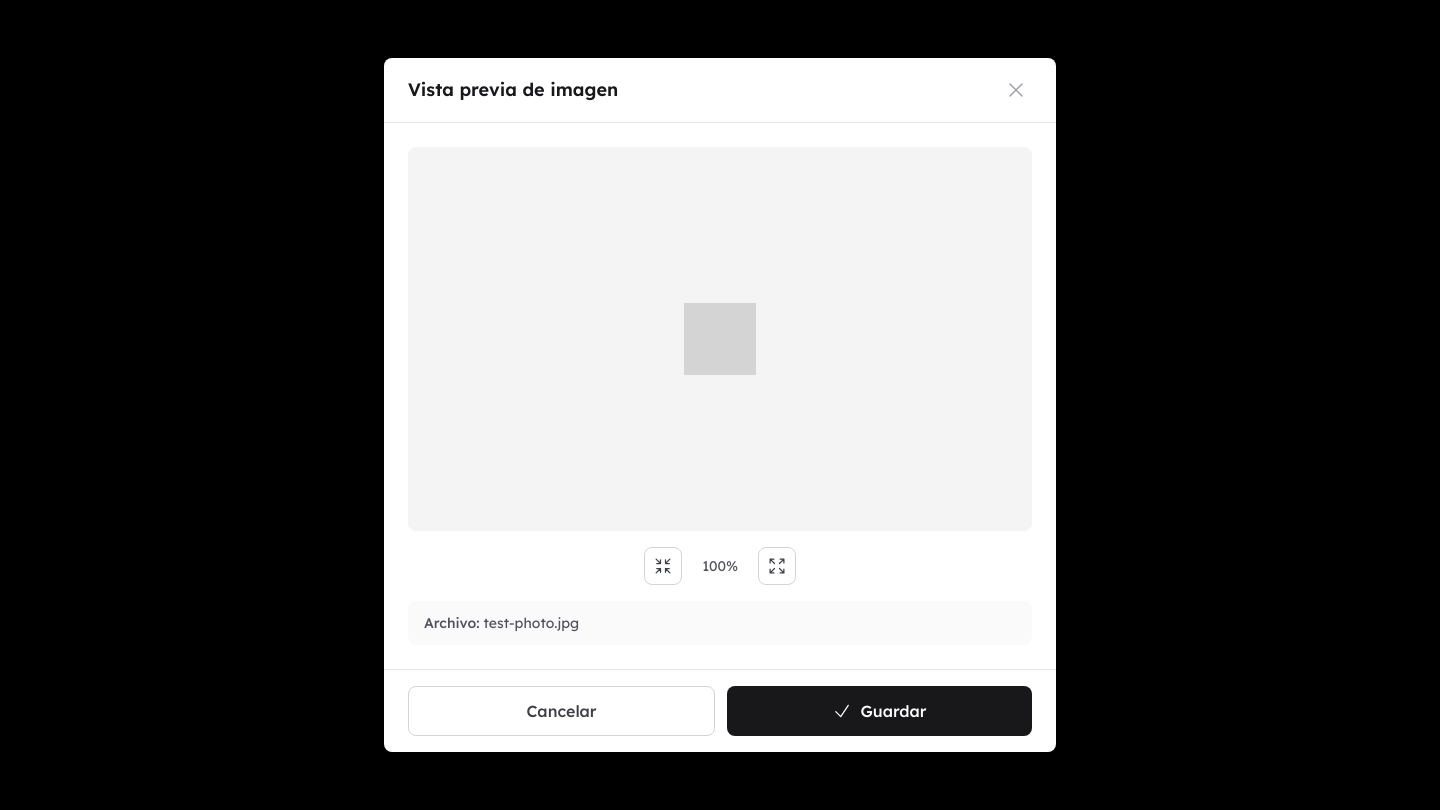
Scenario: ImagePreview › resets zoom when reset button is clicked
Click the button named "acercar".
click(777, 566)  # box [758,547,796,585]
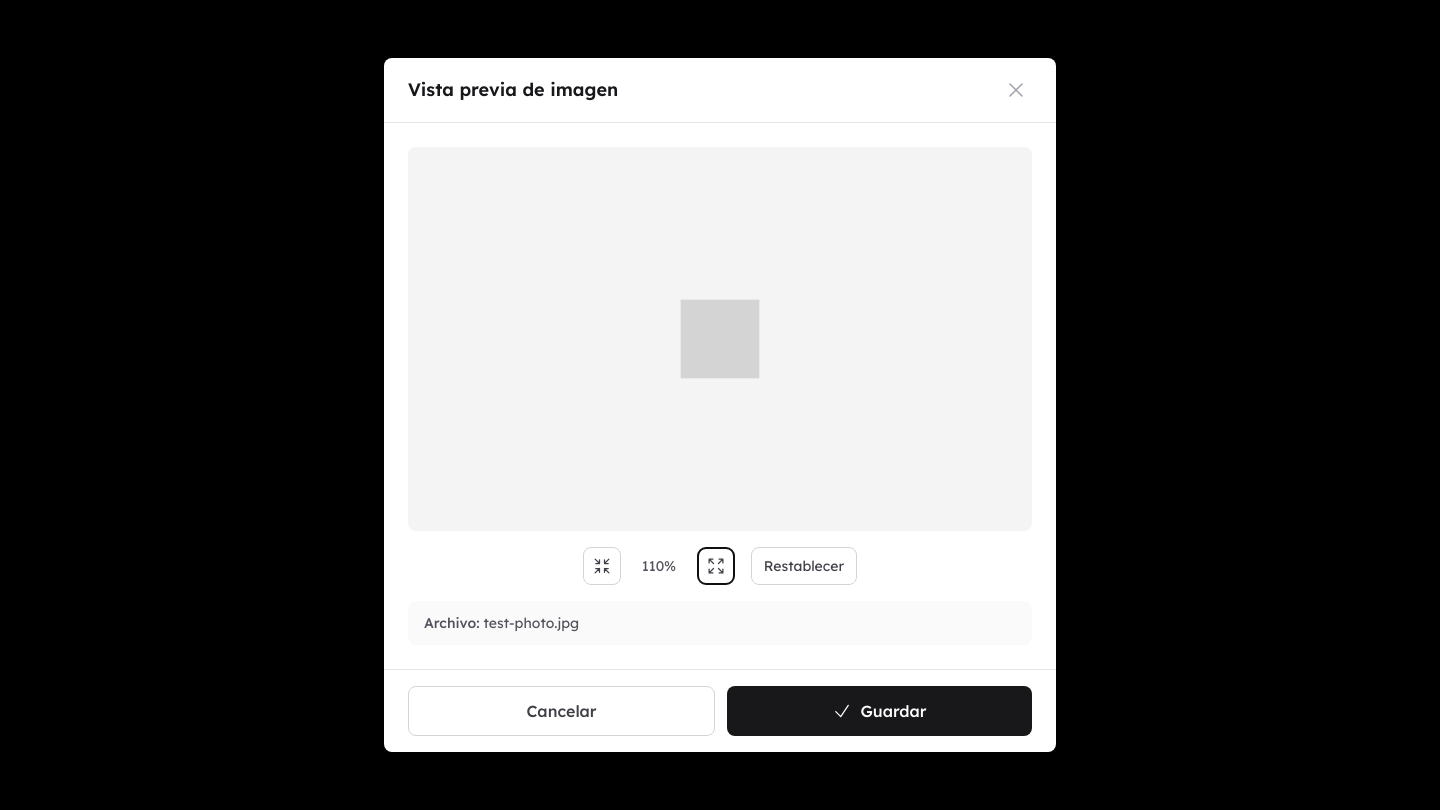
Click the button named "acercar".
click(716, 566)  # box [697,547,735,585]
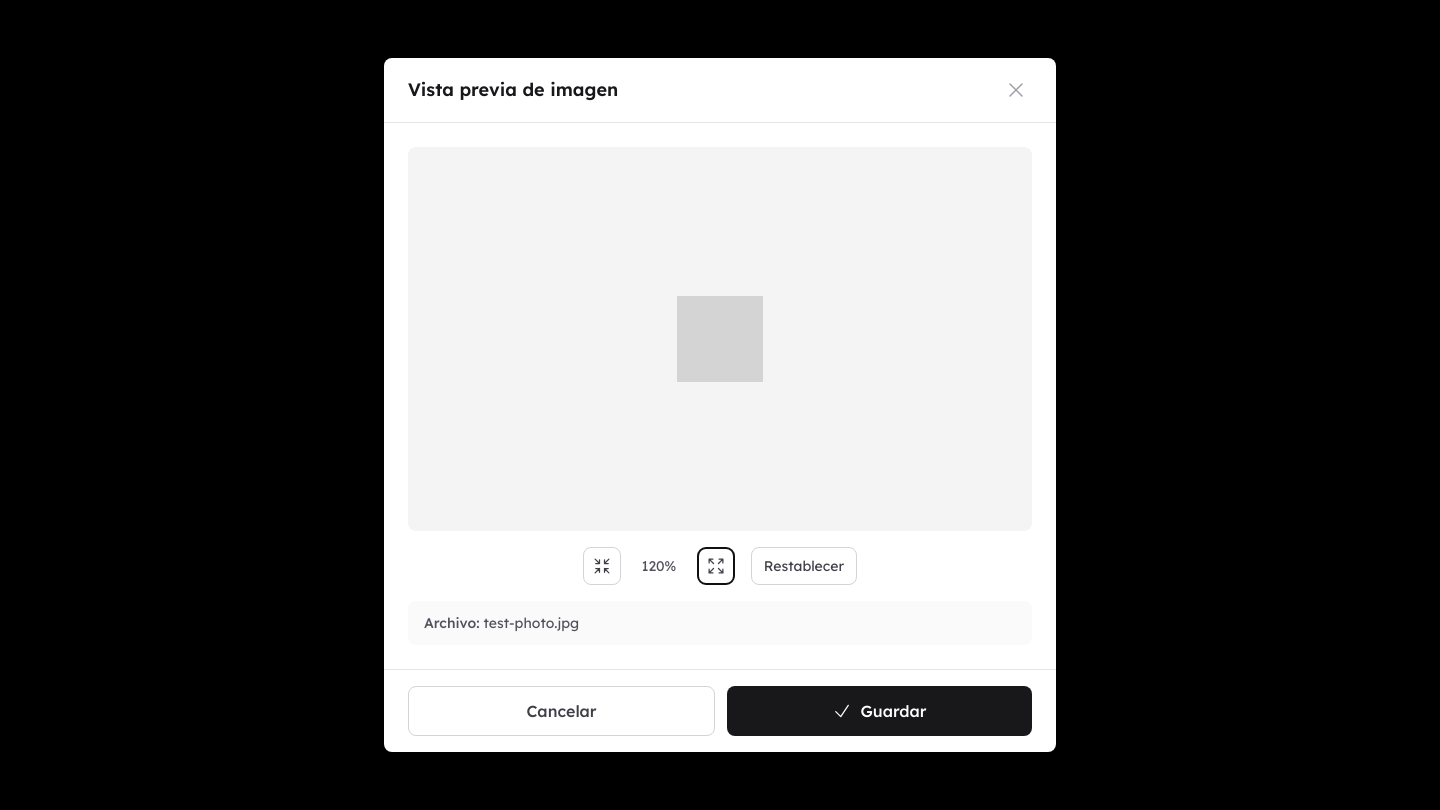
Click the button "Restablecer".
click(804, 566)  # box [751,547,857,585]
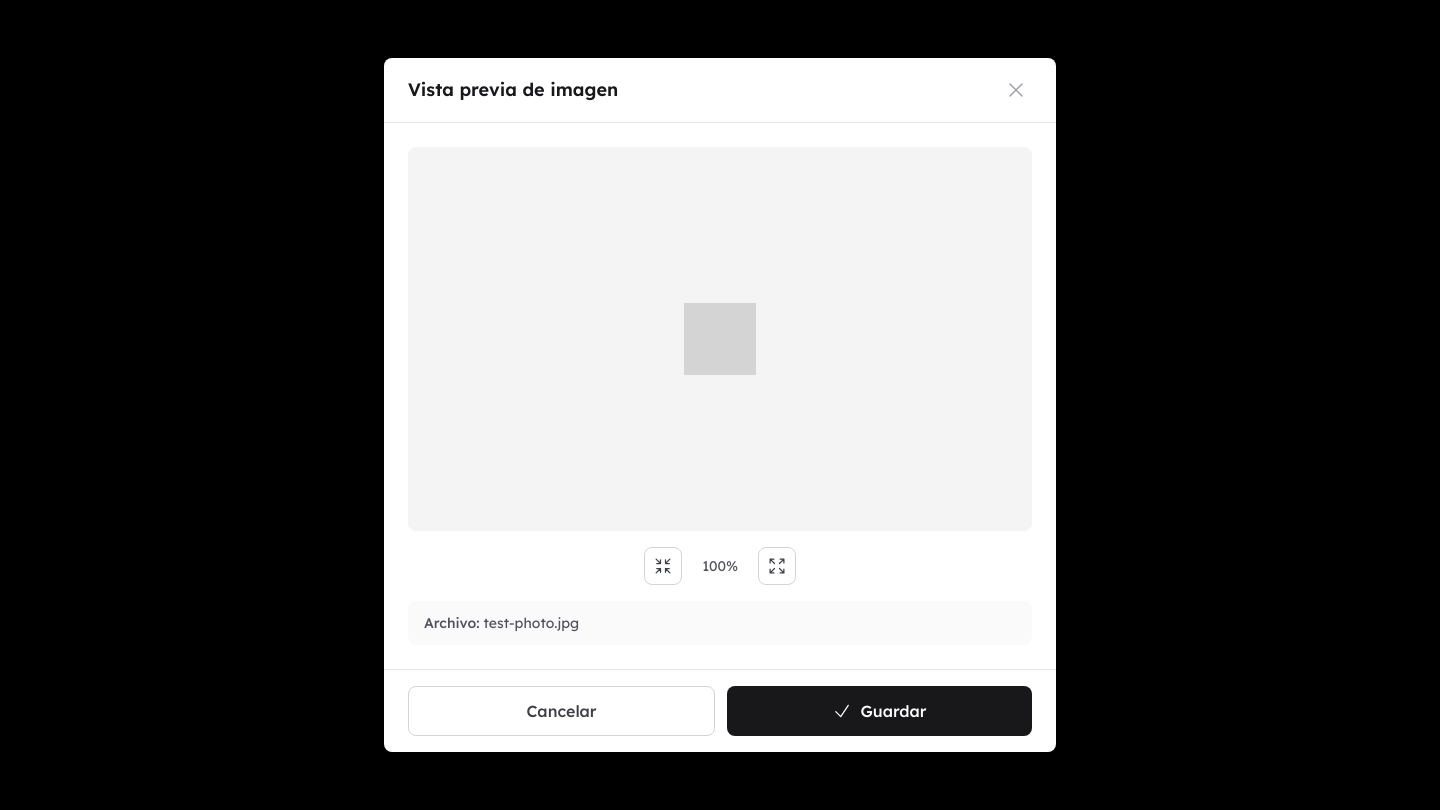
Expected: the text "100%" is shown, [702,557,738,575]
